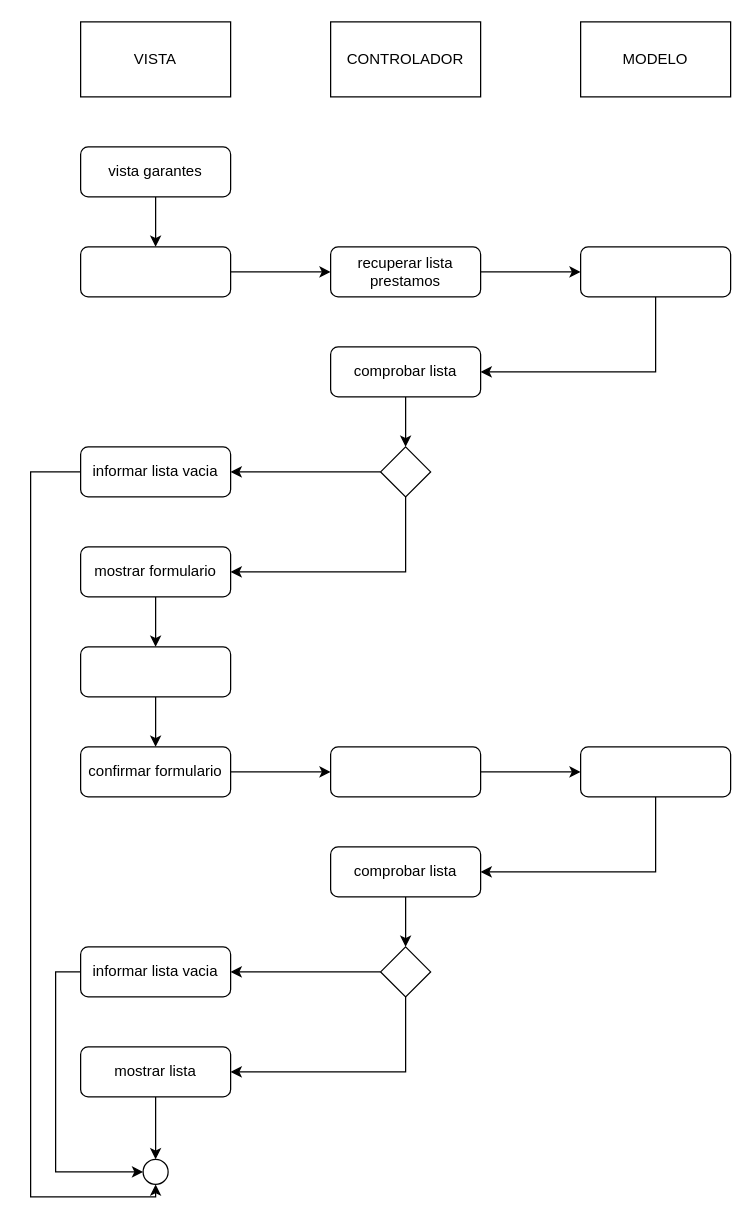
Some shapes in this 753 by 1229 pixel diagram are drawn without their labels. Each missing label, with the centre of its shape:
"listar garantes por préstamo" goes at (155,271).
"recuperar garantes que coincidan" goes at (655,771).
"recuperar lista garantes" goes at (405,771).
"recuperar prestamos" goes at (655,271).
"seleccionar prestamo" goes at (155,671).
